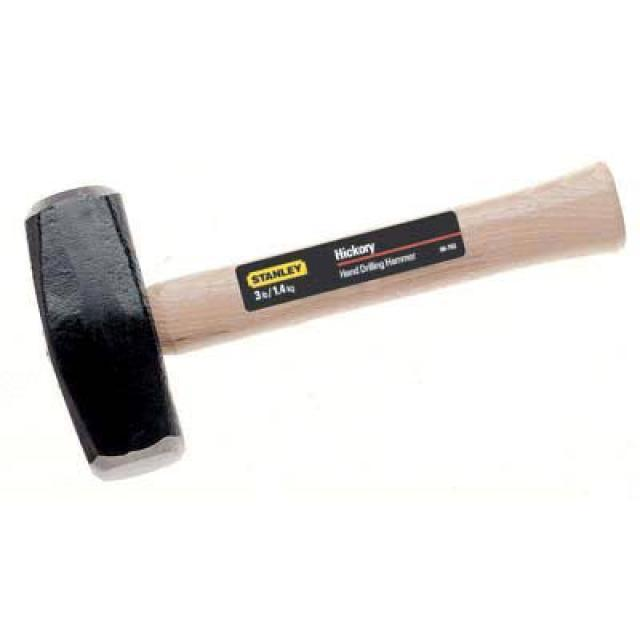hammer: (11, 152, 634, 494)
